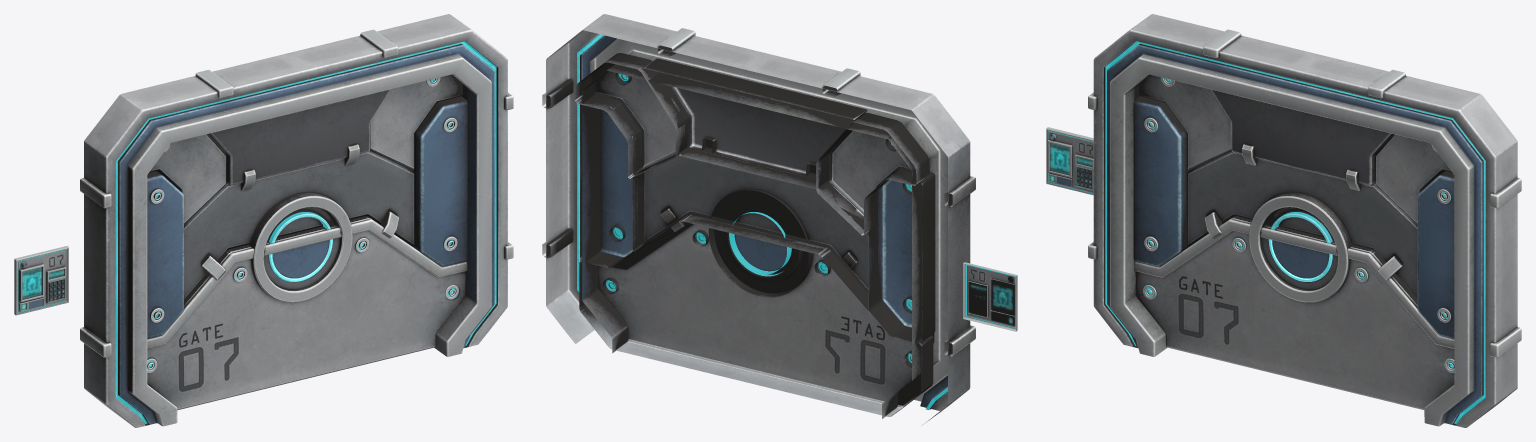
The model's file is lab_door.glb.
3 views of the same model, side by side, from view 1: azimuth 30°, elevation 25°; view 2: azimuth 150°, elevation 25°; view 3: azimuth 330°, elevation 25° (orthographic).
Visible parts, largest first — view 1: prop; view 2: prop; view 3: prop.
Boxes of the visible parts, bbox=[...] form: prop: bbox=[14, 14, 513, 427]; prop: bbox=[542, 14, 1017, 424]; prop: bbox=[1046, 14, 1521, 427].
Size of the model in its own units: 4.72 by 3.04 by 0.4993.
Materials: 1 (1 with a texture image).
